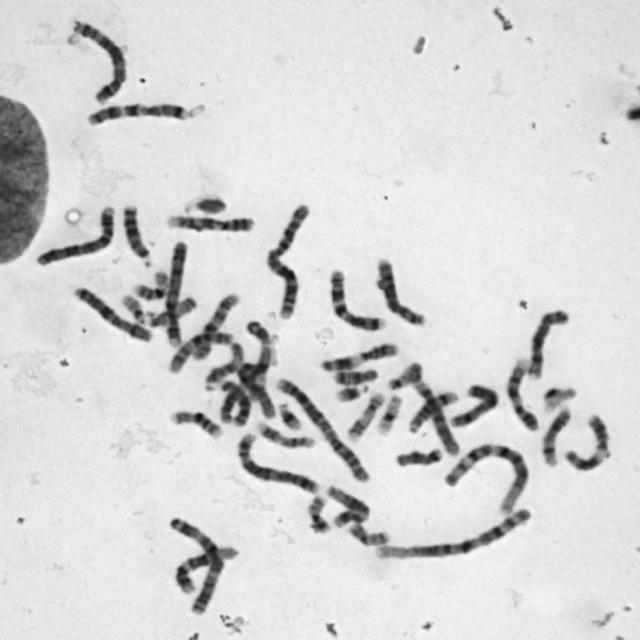A1: (369, 502, 536, 563), (442, 437, 534, 517)
A2: (271, 372, 374, 485), (262, 198, 315, 320)
A3: (218, 310, 279, 426), (165, 510, 228, 616)
B4: (31, 201, 118, 268), (161, 235, 191, 349)
B5: (233, 428, 322, 495), (65, 14, 130, 104)
C10: (190, 288, 242, 362), (163, 326, 234, 375)
C11: (560, 408, 613, 473), (314, 337, 400, 373)
C12: (171, 541, 241, 596), (322, 480, 372, 529)
C6: (402, 362, 463, 458), (232, 357, 278, 422)
C7: (324, 264, 388, 332), (81, 97, 191, 127)
C8: (372, 252, 429, 328), (522, 303, 573, 382)
C9: (502, 354, 542, 432), (162, 208, 259, 234)
D13: (118, 198, 155, 267), (214, 374, 252, 428)
D14: (405, 386, 461, 434), (538, 404, 575, 468)
D15: (200, 338, 247, 393), (141, 290, 198, 328)
E16: (166, 405, 226, 439), (128, 265, 171, 301)
E17: (342, 387, 386, 443), (252, 416, 318, 450)
E18: (390, 442, 445, 468), (328, 363, 381, 386)
F19: (372, 390, 404, 436), (538, 382, 580, 413)
F20: (344, 518, 392, 548), (304, 490, 332, 535)
G21: (273, 397, 305, 431), (331, 380, 371, 403)
G22: (178, 189, 230, 217), (117, 289, 149, 324)
X: (68, 282, 154, 344), (445, 379, 501, 429)
